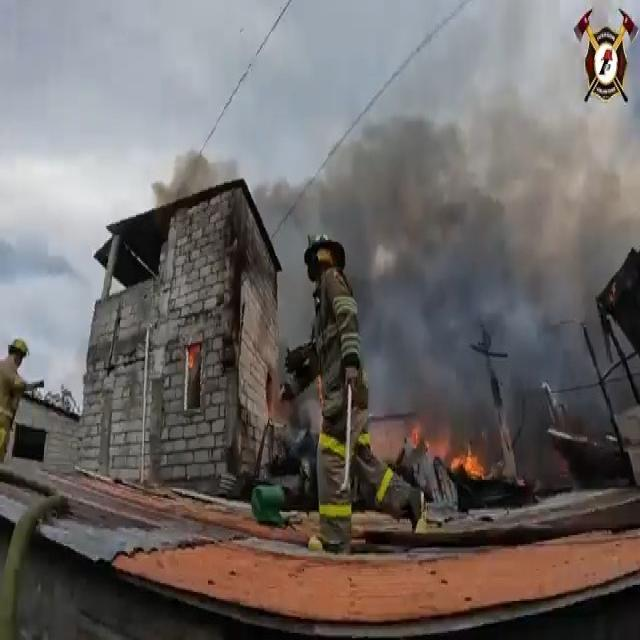Fire: (392, 402, 490, 483), (185, 342, 201, 368)
Smoke: (266, 109, 620, 481)
